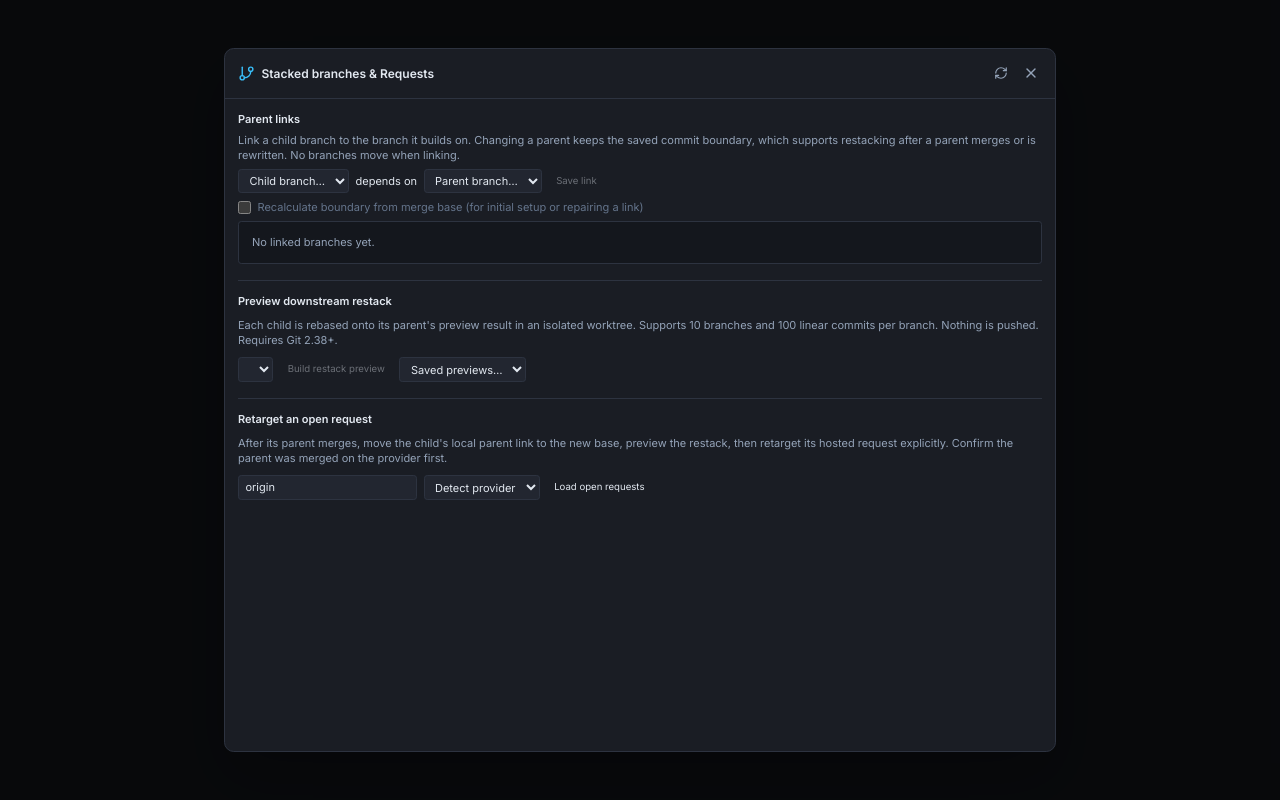
it: chooses an available stack root after refreshing an initially empty repository: linked
Expected: the text "No linked branches yet." is shown, [252,235,375,249]
Click the button titled "Refresh stack": [1001, 73] box [990,62,1013,85]
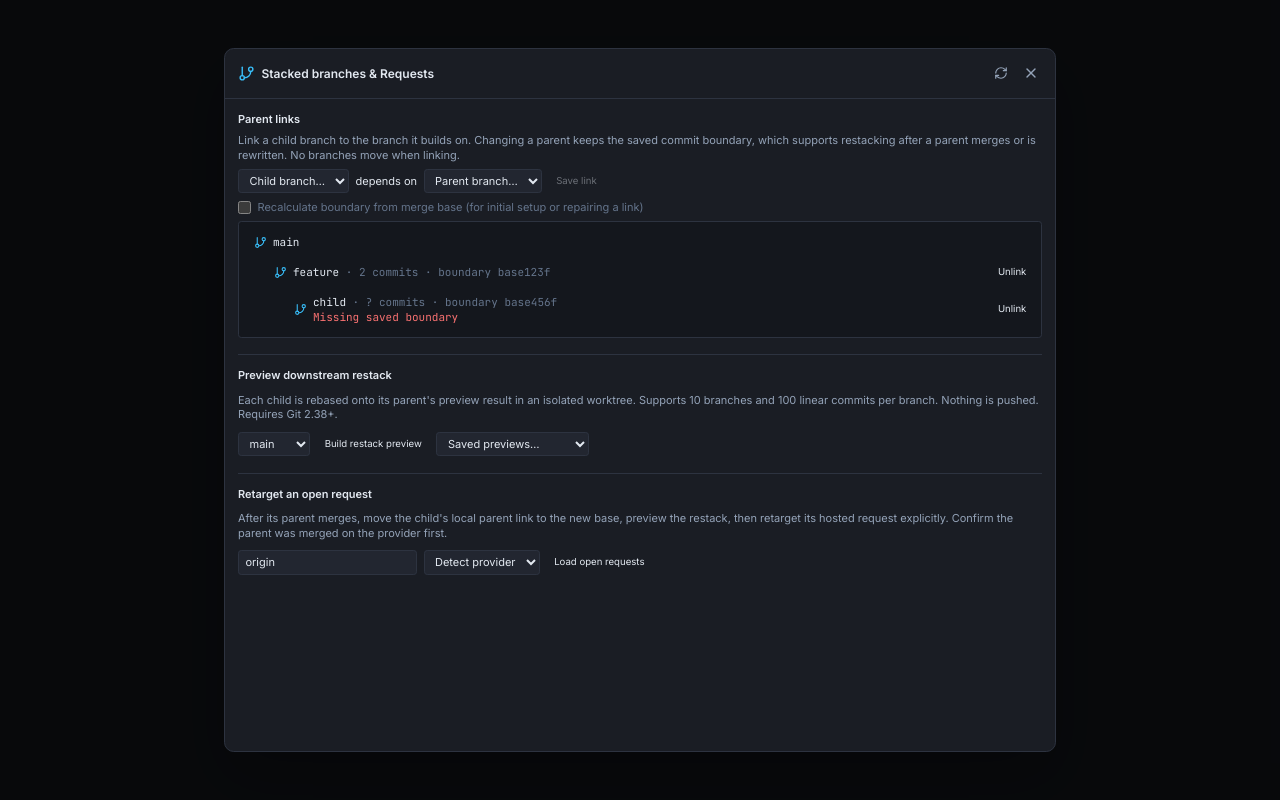
Expected: the dropdown named "Stack base branch" shows "main", [238,432,310,456]
